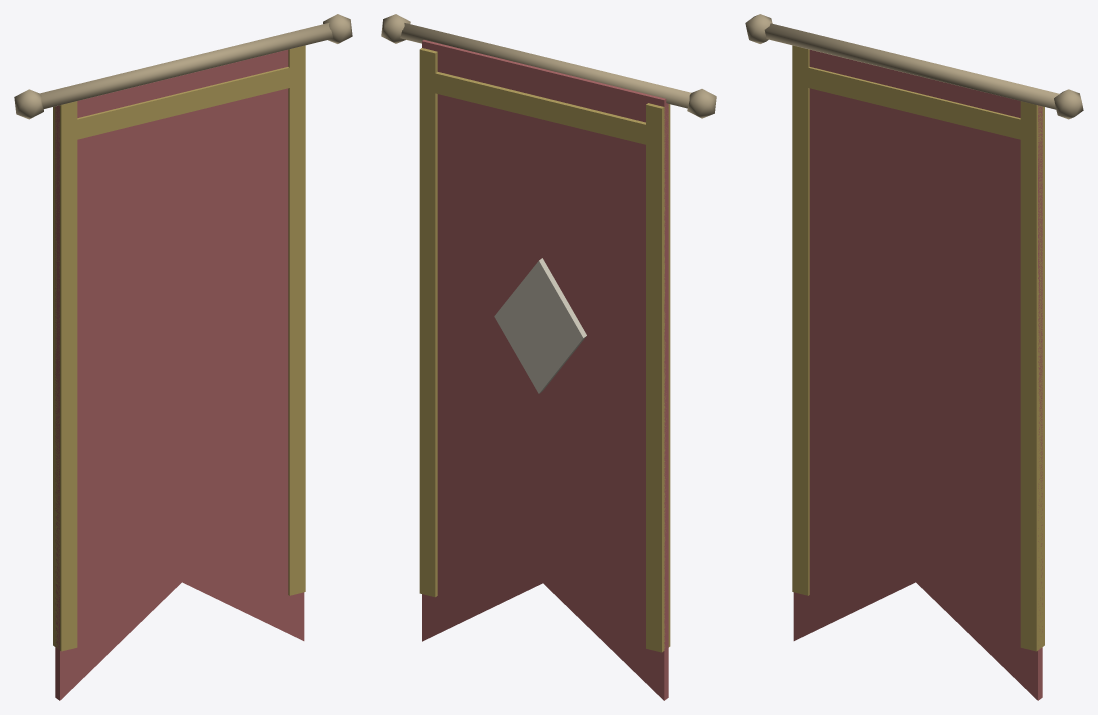
File: drippler_banner_v0.glb
3 renders of one model, left to right at view 1: azimuth 30°, elevation 25°; view 2: azimuth 150°, elevation 25°; view 3: azimuth 330°, elevation 25°, orthographic.
Parts seen in each view (by area): view 1: drippler_banner_v0; view 2: drippler_banner_v0; view 3: drippler_banner_v0.
Boxes of the visible parts, x1,y1,x2,y2 form: drippler_banner_v0: (14,14,352,700); drippler_banner_v0: (381,14,716,700); drippler_banner_v0: (745,14,1083,700).
Bounding box in the file's own units: 1.04 × 1.84 × 0.0933.
